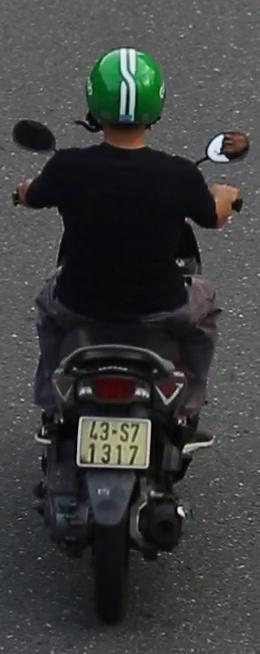LP: (70, 406, 155, 485)
helmet: (79, 38, 169, 148)
